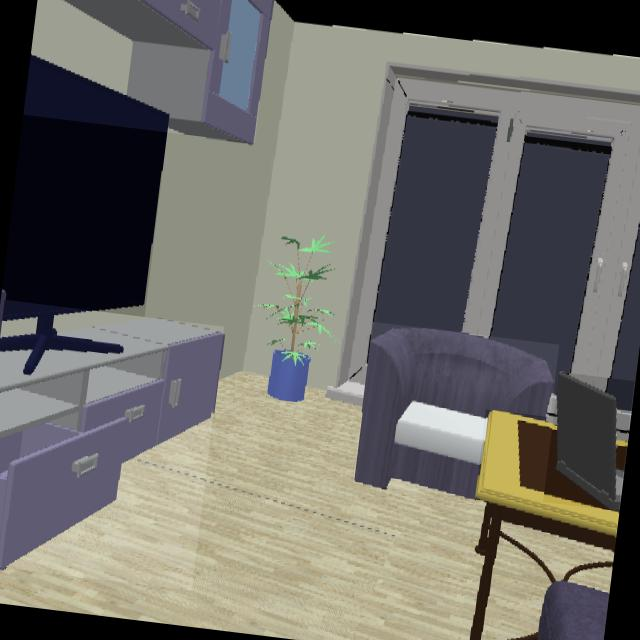cabinet: (0, 319, 221, 566), (62, 0, 272, 142)
laptop: (557, 372, 622, 510)
monitor: (0, 54, 169, 375)
sofa: (356, 328, 553, 498)
table: (470, 411, 619, 640), (564, 563, 612, 578)
